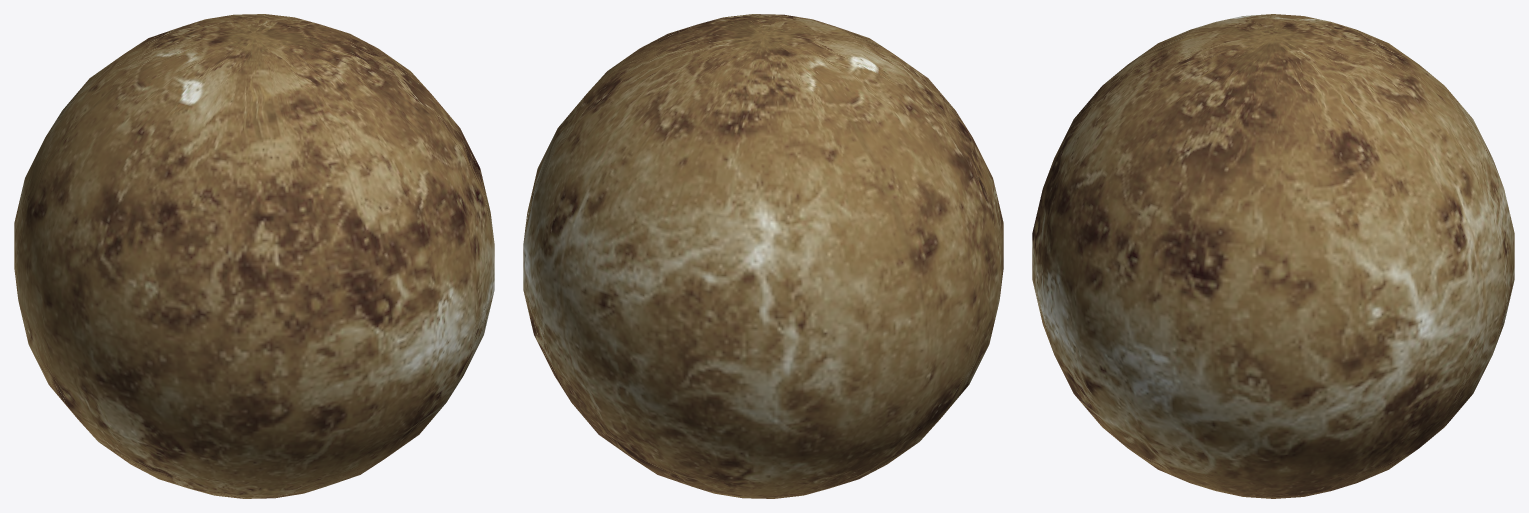
The model's file is AsteroidJ.obj.
3 views of the same model, side by side, from view 1: azimuth 30°, elevation 25°; view 2: azimuth 150°, elevation 25°; view 3: azimuth 270°, elevation 25° (orthographic).
Size of the model in its own units: 1.99 by 2 by 1.99.
Materials: 1 (1 with a texture image).
